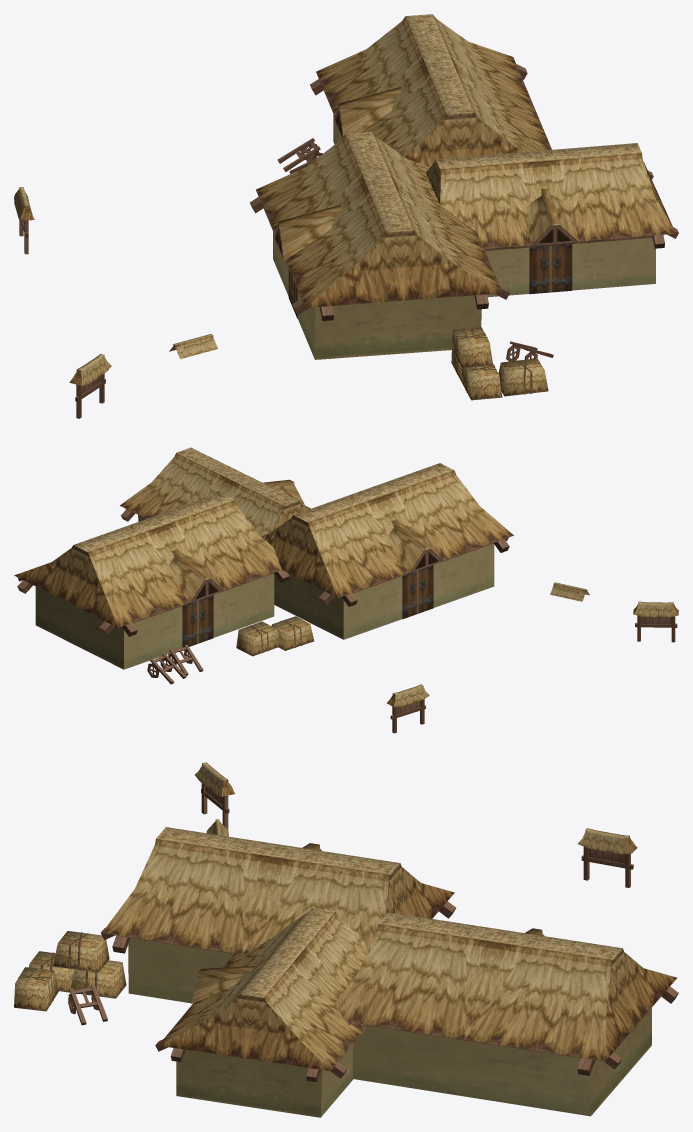
Rendered from Area_11_7.fbx.
3 views of the same model, one above another, from view 1: azimuth 30°, elevation 25°; view 2: azimuth 150°, elevation 25°; view 3: azimuth 270°, elevation 25° (orthographic). The views are drawn at different scales.
Visible parts, largest first — view 1: Area_11_7; view 2: Area_11_7; view 3: Area_11_7.
Boxes of the visible parts, bbox=[...] form: Area_11_7: bbox=[14, 14, 678, 418]; Area_11_7: bbox=[14, 447, 678, 733]; Area_11_7: bbox=[14, 762, 678, 1117].
Size of the model in its own units: 3993 by 781 by 3431.
